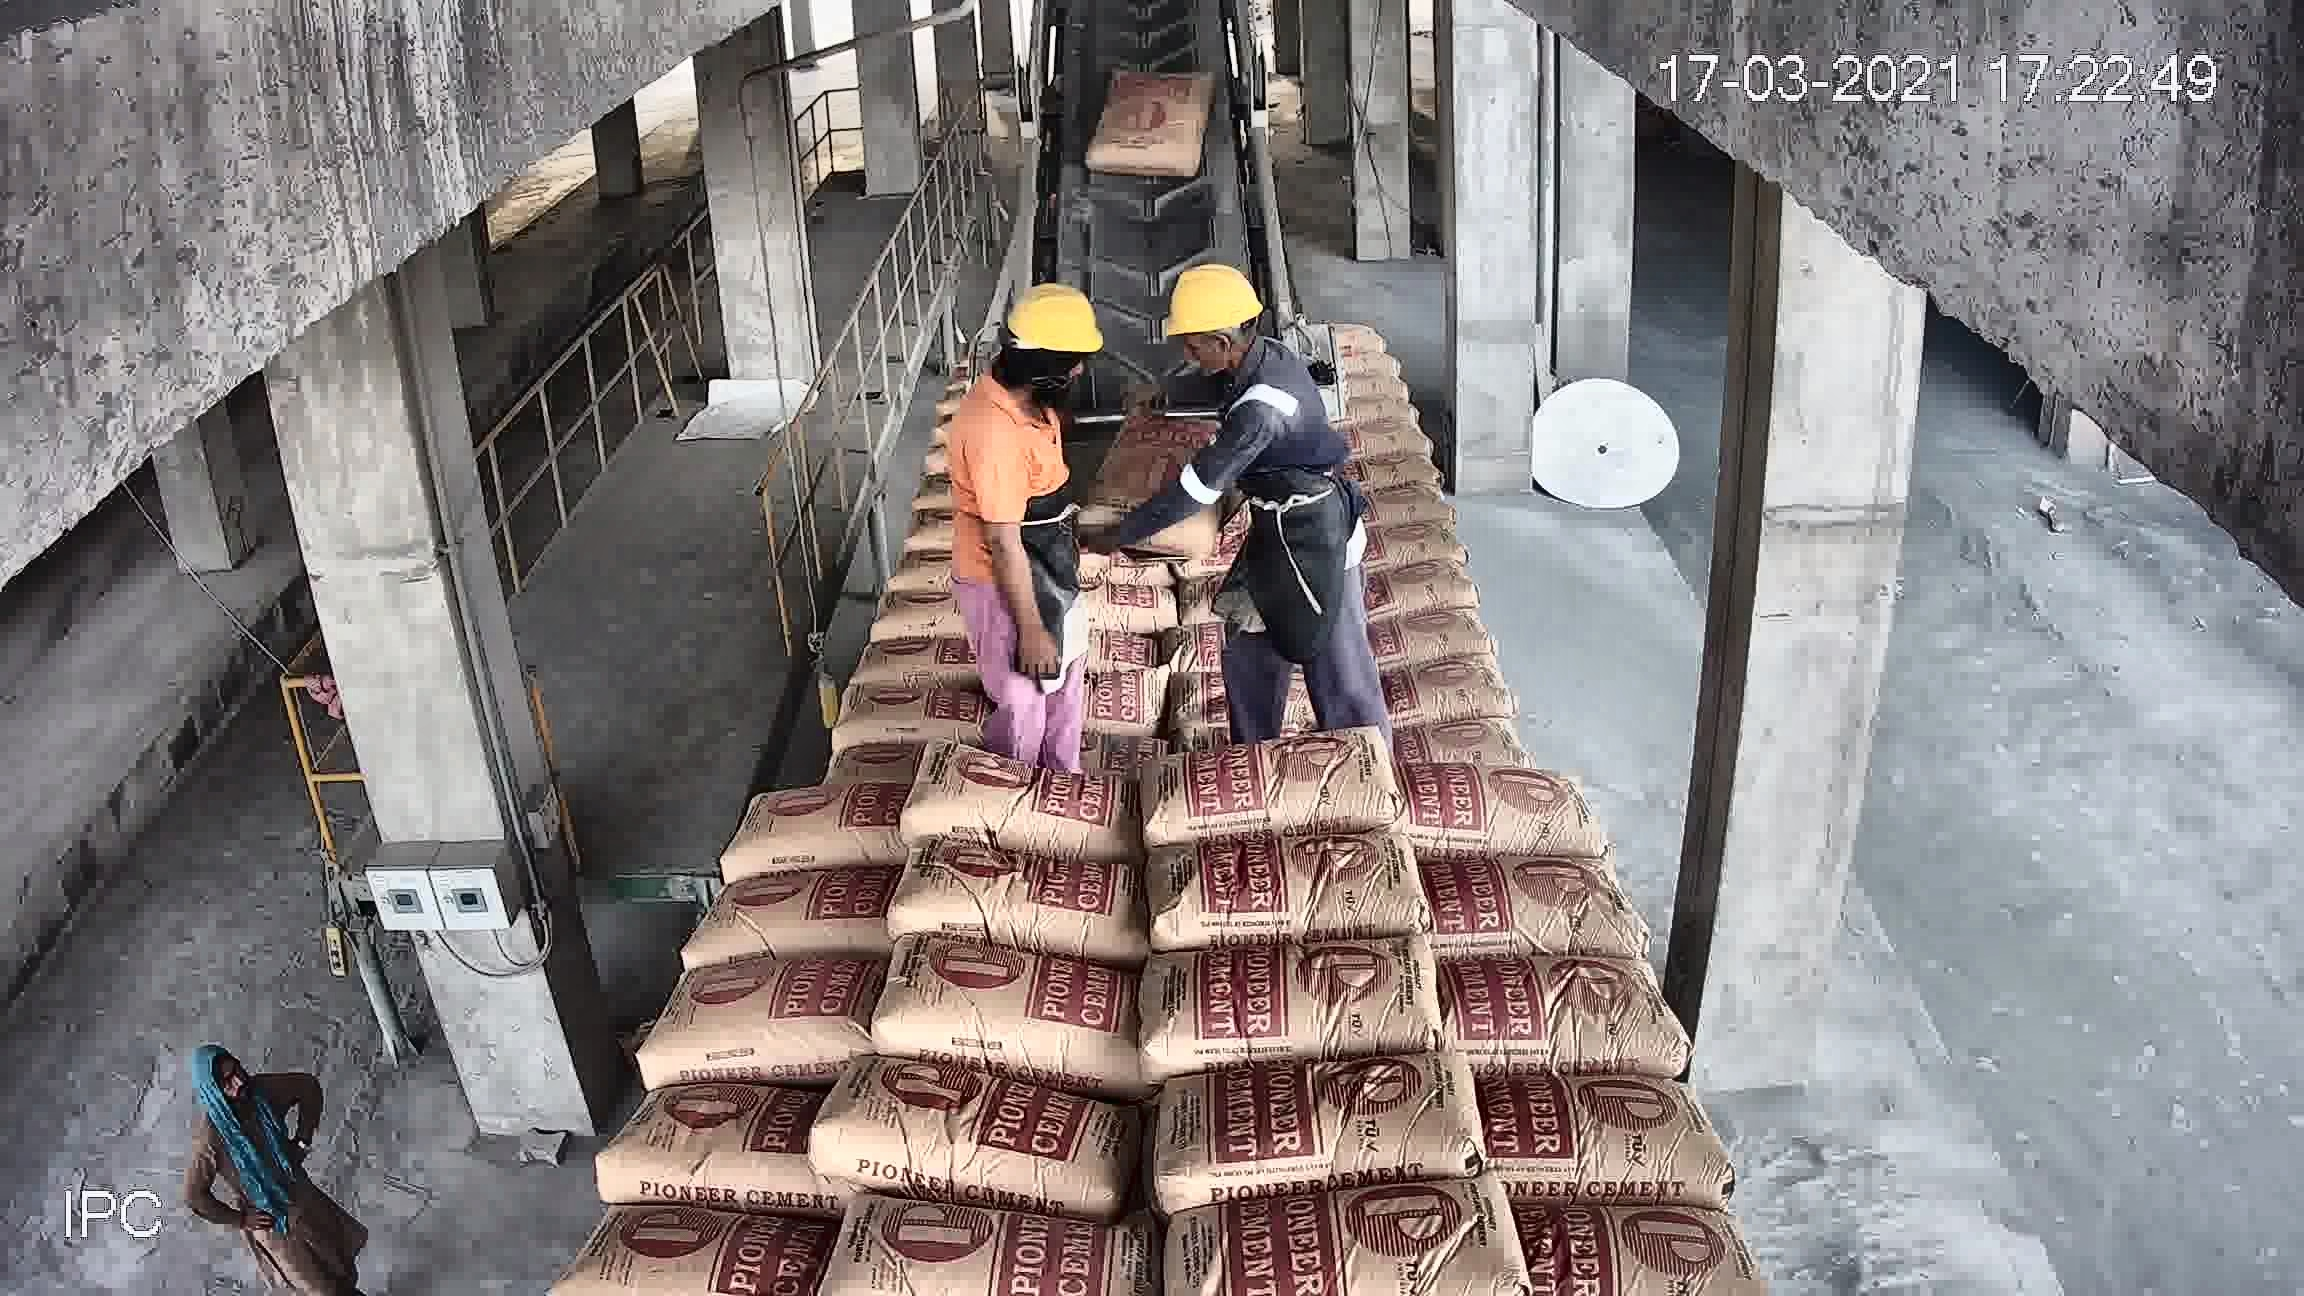bag: (1117, 267, 1225, 408)
bag_h: (1161, 1048, 1472, 1211), (1136, 1173, 1532, 1296), (1116, 932, 1438, 1063), (817, 1097, 1143, 1212), (810, 1192, 1154, 1296), (1130, 824, 1416, 948), (873, 953, 1173, 1062), (1468, 1078, 1711, 1206), (639, 962, 881, 1082), (600, 1082, 839, 1201), (1434, 945, 1662, 1062), (1502, 1190, 1750, 1296), (677, 848, 892, 970), (1400, 851, 1649, 956), (891, 859, 1139, 957), (1161, 726, 1402, 823), (1388, 760, 1620, 851), (728, 703, 956, 794), (1166, 578, 1385, 673), (1146, 674, 1389, 755), (579, 1203, 813, 1287), (763, 623, 957, 723), (1353, 685, 1567, 775), (728, 771, 907, 877), (897, 767, 1139, 836), (981, 612, 1158, 680), (940, 696, 1135, 752), (1366, 623, 1525, 684), (1152, 470, 1264, 536), (866, 582, 999, 633), (910, 502, 1010, 555), (877, 552, 1003, 593), (1386, 551, 1464, 612), (905, 470, 995, 517)
belt: (1032, 25, 1277, 427)
